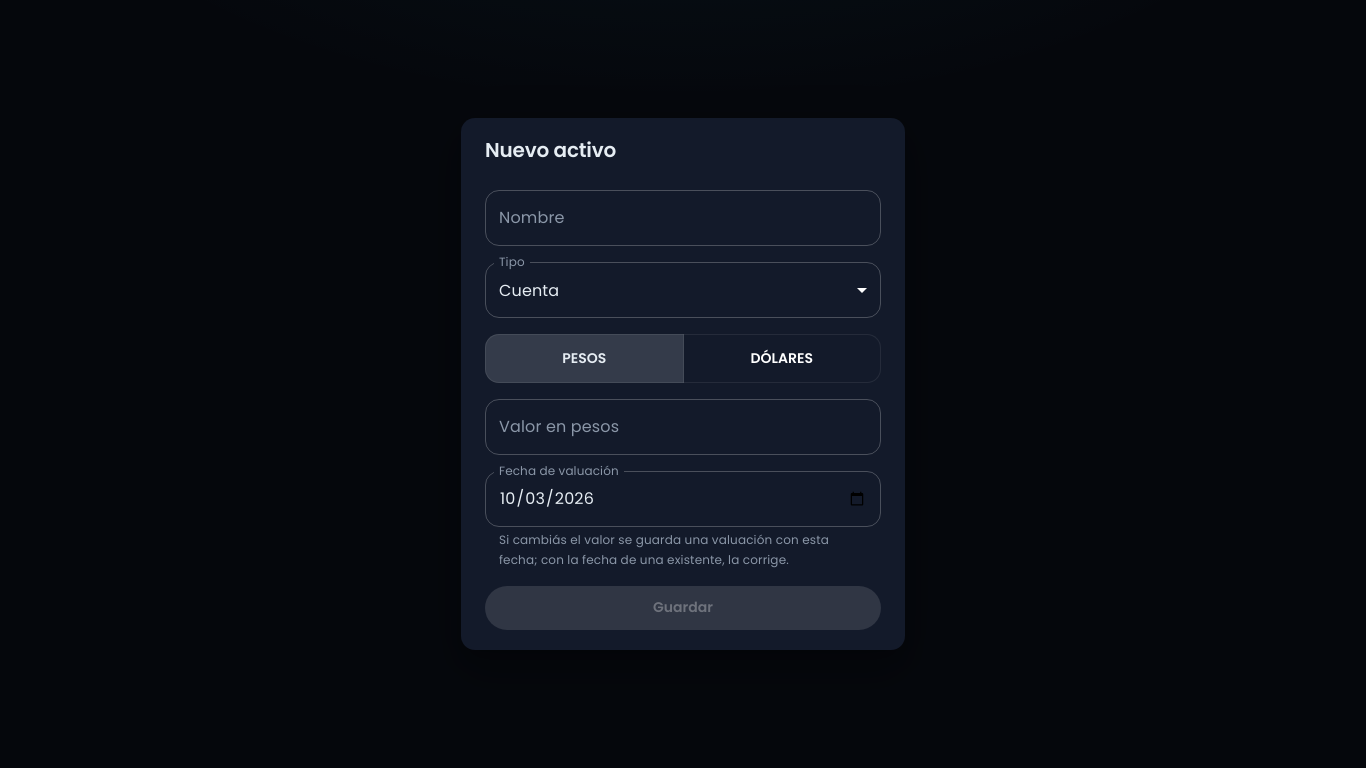
Test: ManualAssetEditor para un activo nuevo › vaciar la fecha deshabilita Guardar
The image size is (1366, 768).
In the field labelled "Nombre": (683, 218) [485,190,881,246], type "Caja"
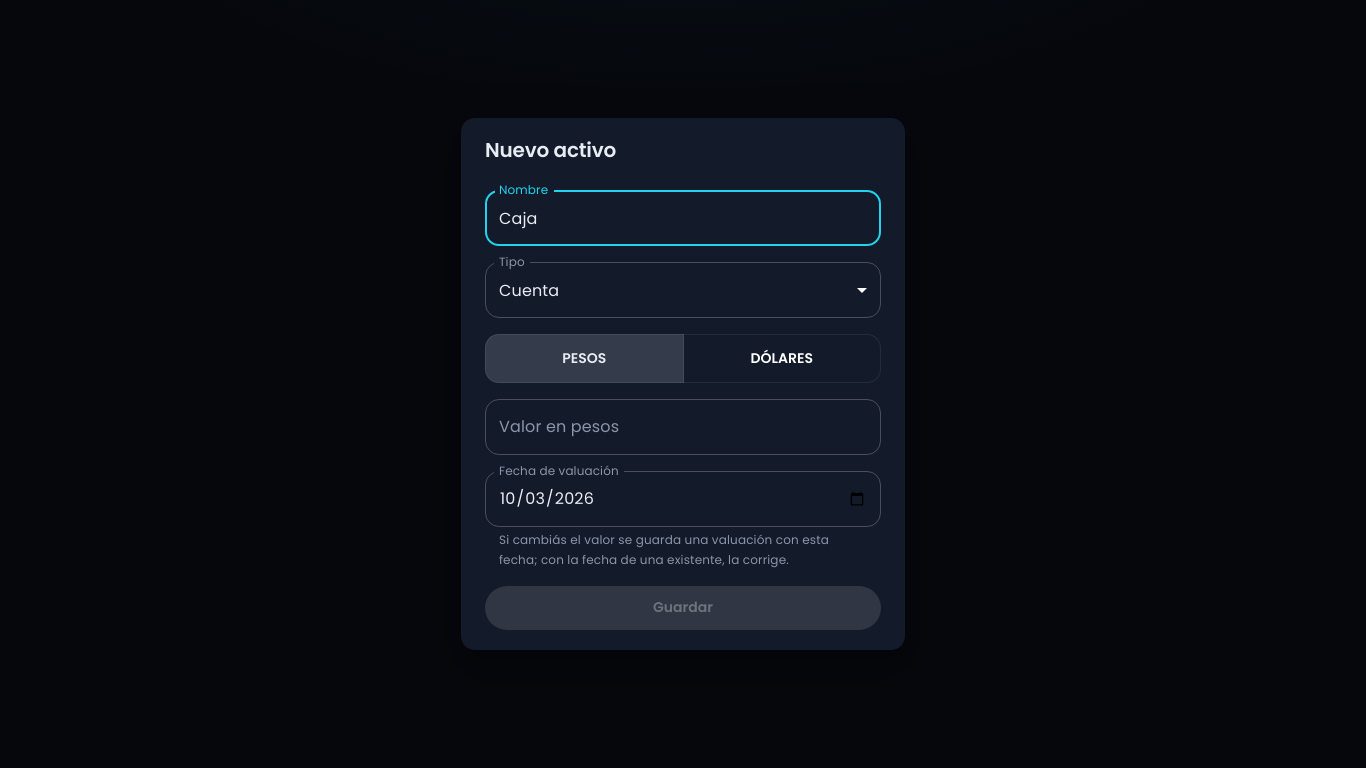
In the field labelled "Valor en pesos": (683, 427) [485,399,881,455], type "100"
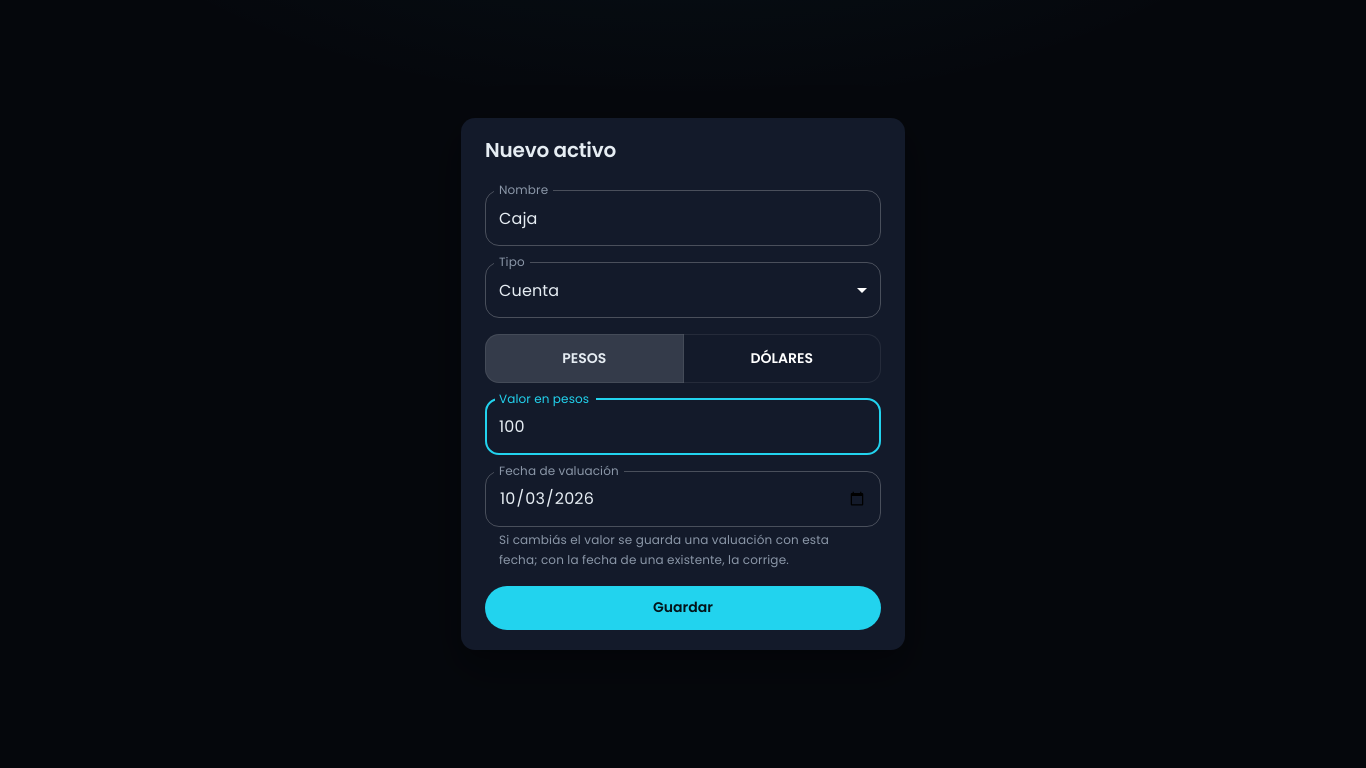
Clear the date field labelled "Fecha de valuación": (683, 499) [485,471,881,527]
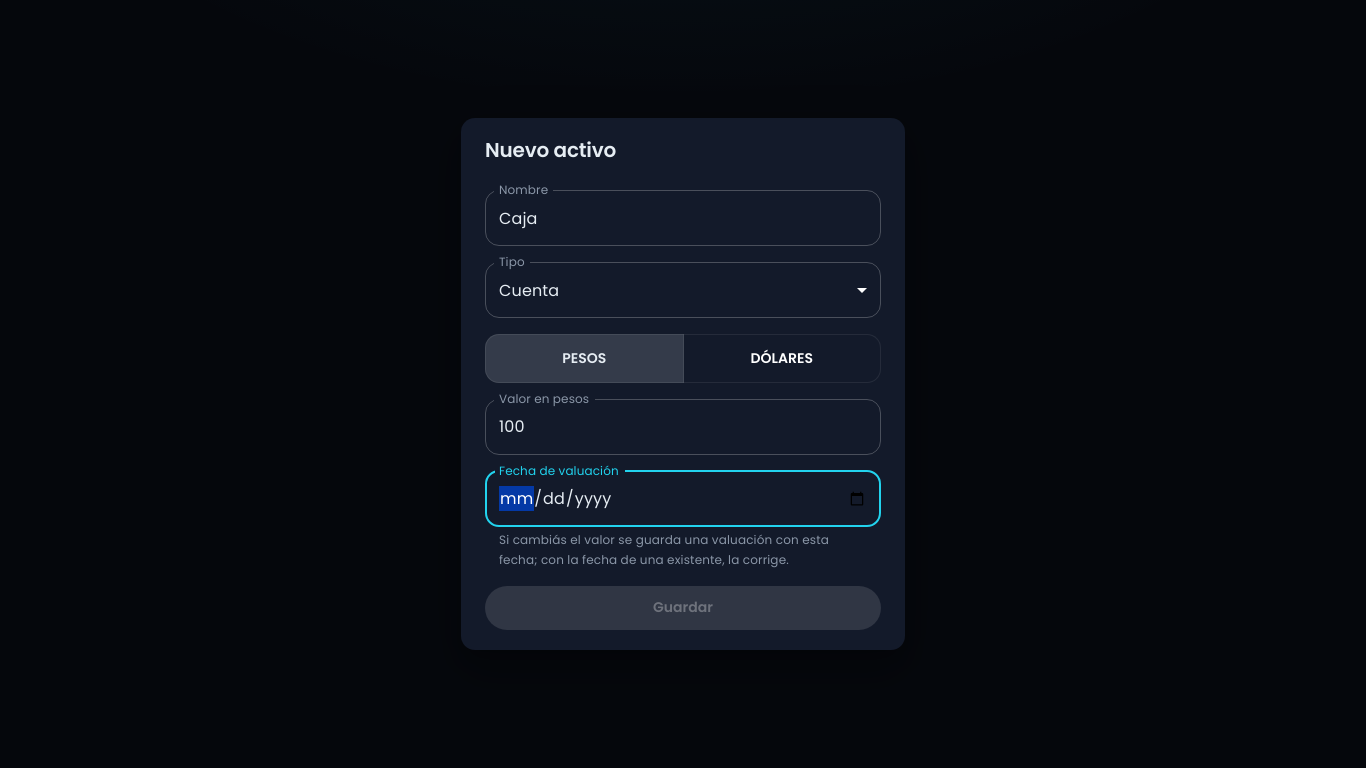
Expected: the button "Guardar" is disabled, [485,586,881,630]
